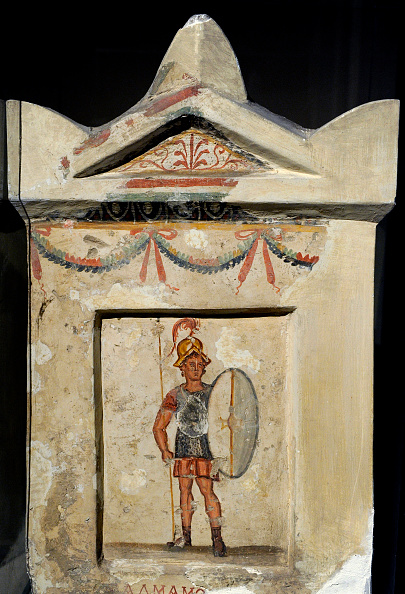em pe: (146, 342, 225, 547)
